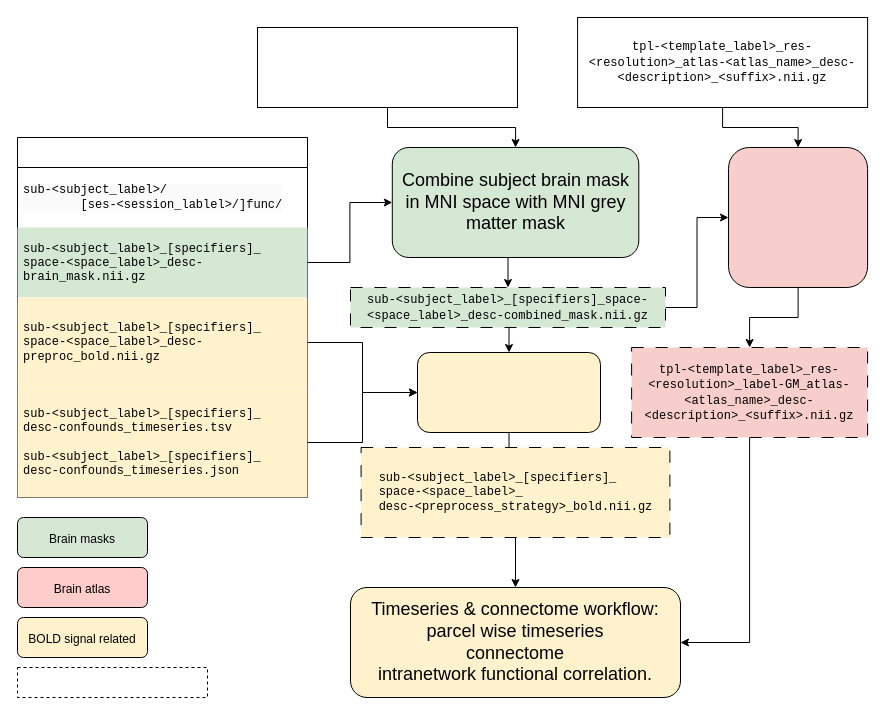
The diagram is 886 pixels wide and 715 high, and some of its shapes have lost their labels. The shapes that lost their labels are listed below. From the top down, each one's box as (x1, y1, x2, y2) in pixels, then its label:
(256, 26, 518, 108): tpl-<template_label>_res-<resolution>_label-GM_desc-brain_mask.nii.gz
(728, 146, 868, 288): Create atlas that overlaps with the subject grey matter mask.
(16, 136, 308, 498): fMRIPrep derivative of a dataset
(416, 352, 600, 432): preprocess voxel-wise data per subject
(16, 666, 208, 698): interim data - not saved to disc
